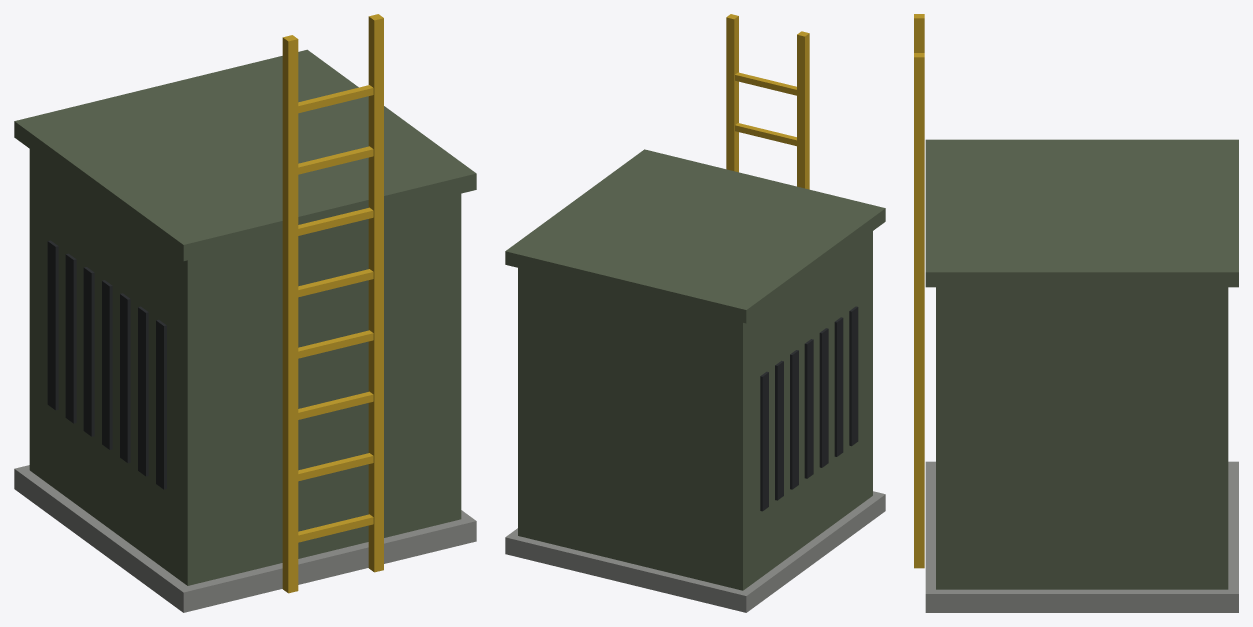
Rendered from transformer_climb.glb.
The picture shows the model from 3 angles, left to right: view 1: azimuth 30°, elevation 25°; view 2: azimuth 150°, elevation 25°; view 3: azimuth 270°, elevation 25°; orthographic projection. The views are drawn at different scales.
Visible parts, largest first — view 1: transformer_climb; view 2: transformer_climb; view 3: transformer_climb.
Boxes of the visible parts, left/top/right/bottom form: transformer_climb: left=14, top=14, right=476, bottom=612; transformer_climb: left=505, top=14, right=885, bottom=612; transformer_climb: left=914, top=14, right=1238, bottom=612.
Size of the model in its own units: 1.5 by 2.7 by 1.55.
